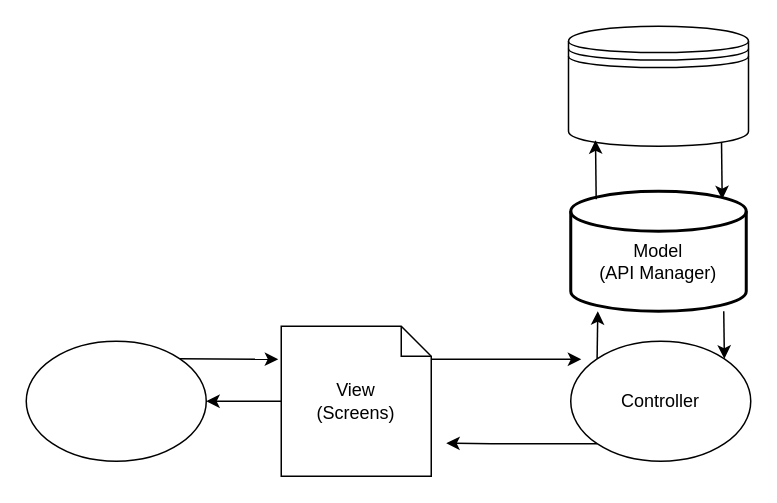
The diagram is 777 pixels wide and 503 high, and some of its shapes have lost their labels. The shapes that lost their labels are listed below. From the top down, each one's centre as x and y in pixels, then its label:
At point 657,85: "External Aniflix Database".
At point 115,400: "Client".
